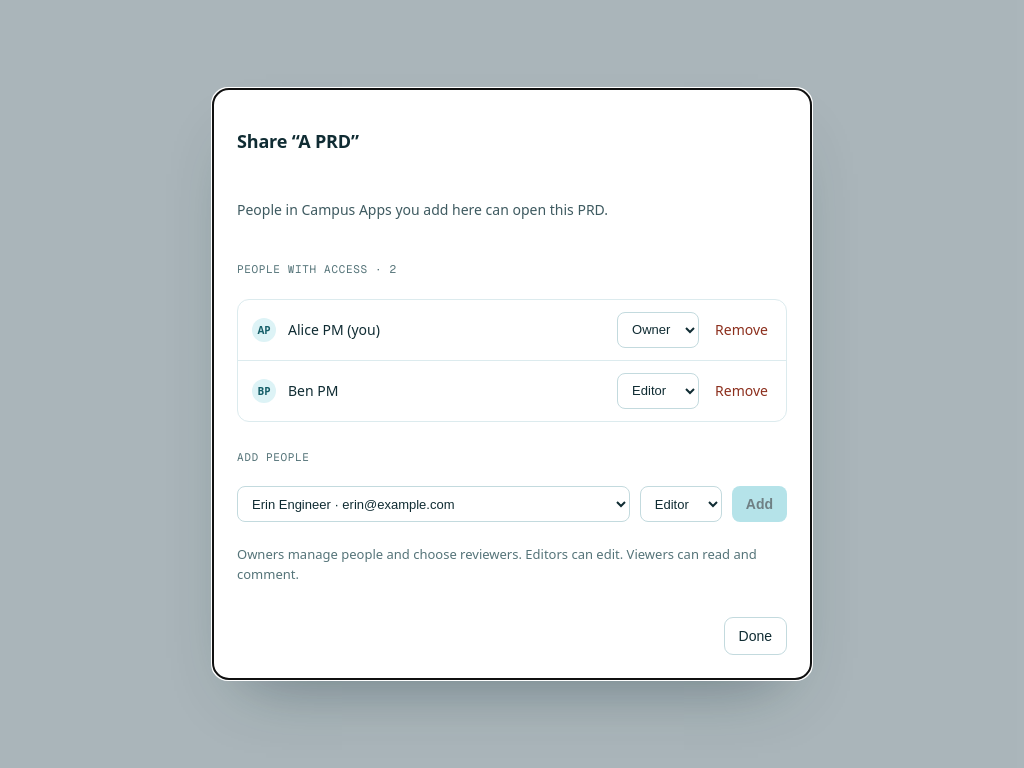
Test case: ShareDialog › adds a person with the chosen role
This screenshot has width=1024, height=768.
Expected: the button "Add" is disabled, [732, 486, 787, 522]
Select "Erin Engineer · erin@example.com" in the dropdown named "Person to add" at (433, 504), box [237, 486, 630, 522]
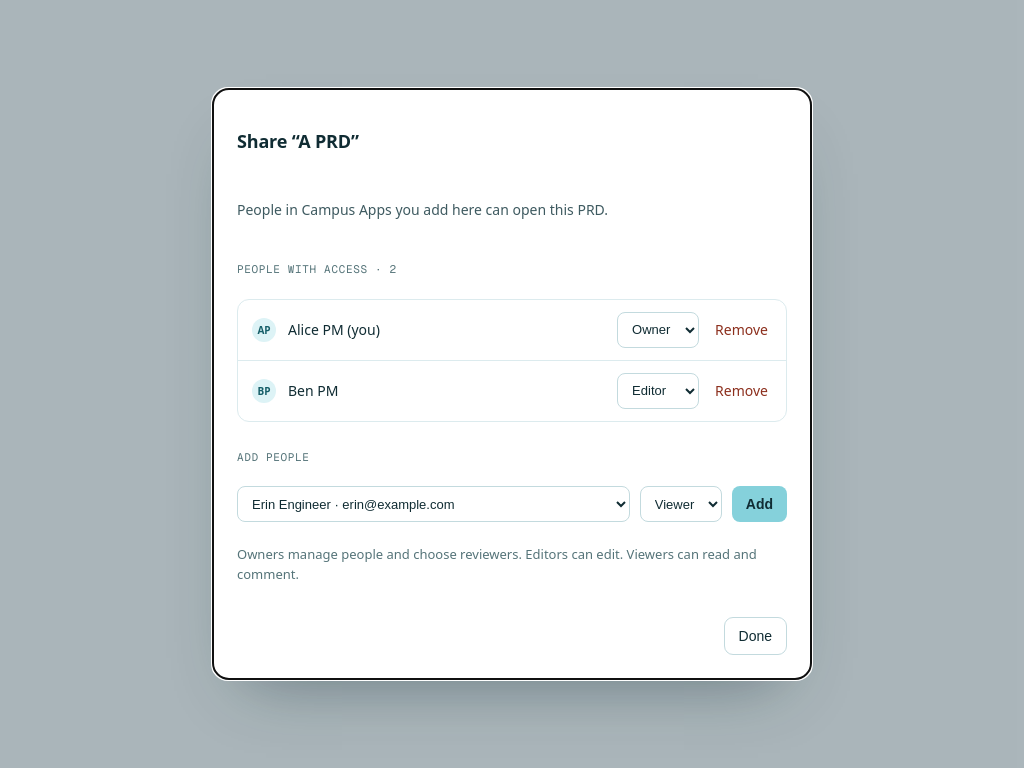
Select "Viewer" in the dropdown named "Role for the person to add" at (681, 504), box [640, 486, 722, 522]
Click the button "Add".
click(759, 504)  # box [732, 486, 787, 522]
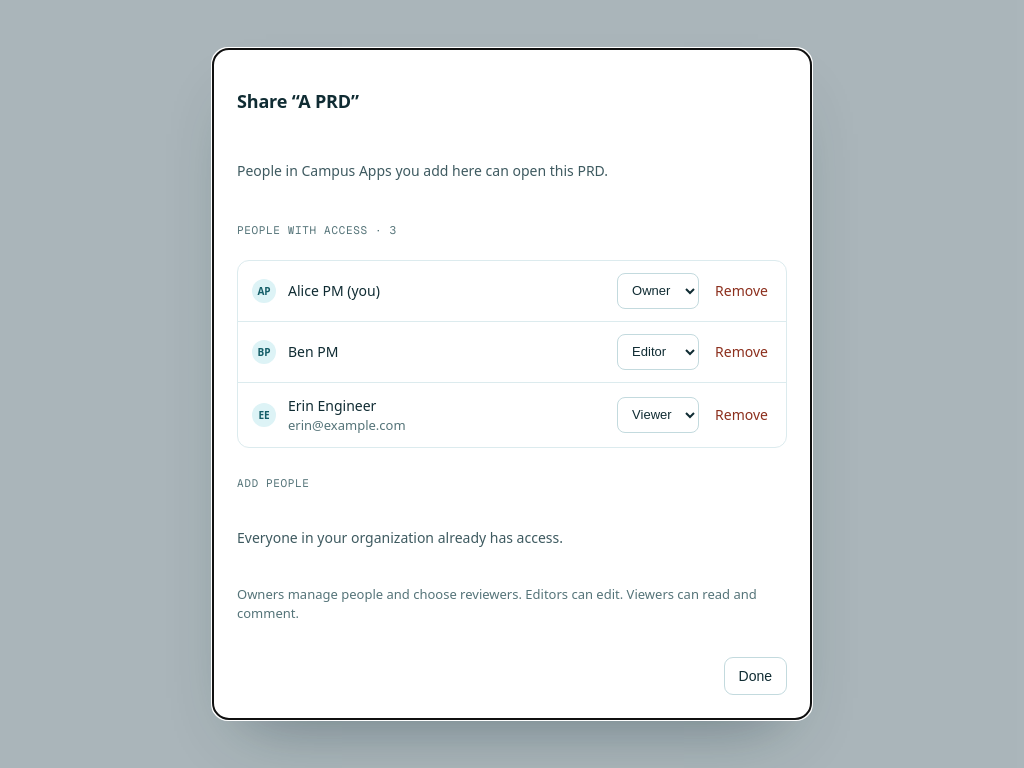
Expected: the text "Everyone in your organization already has access." is shown, [237, 528, 563, 547]
